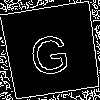G: (26, 25, 72, 77)
